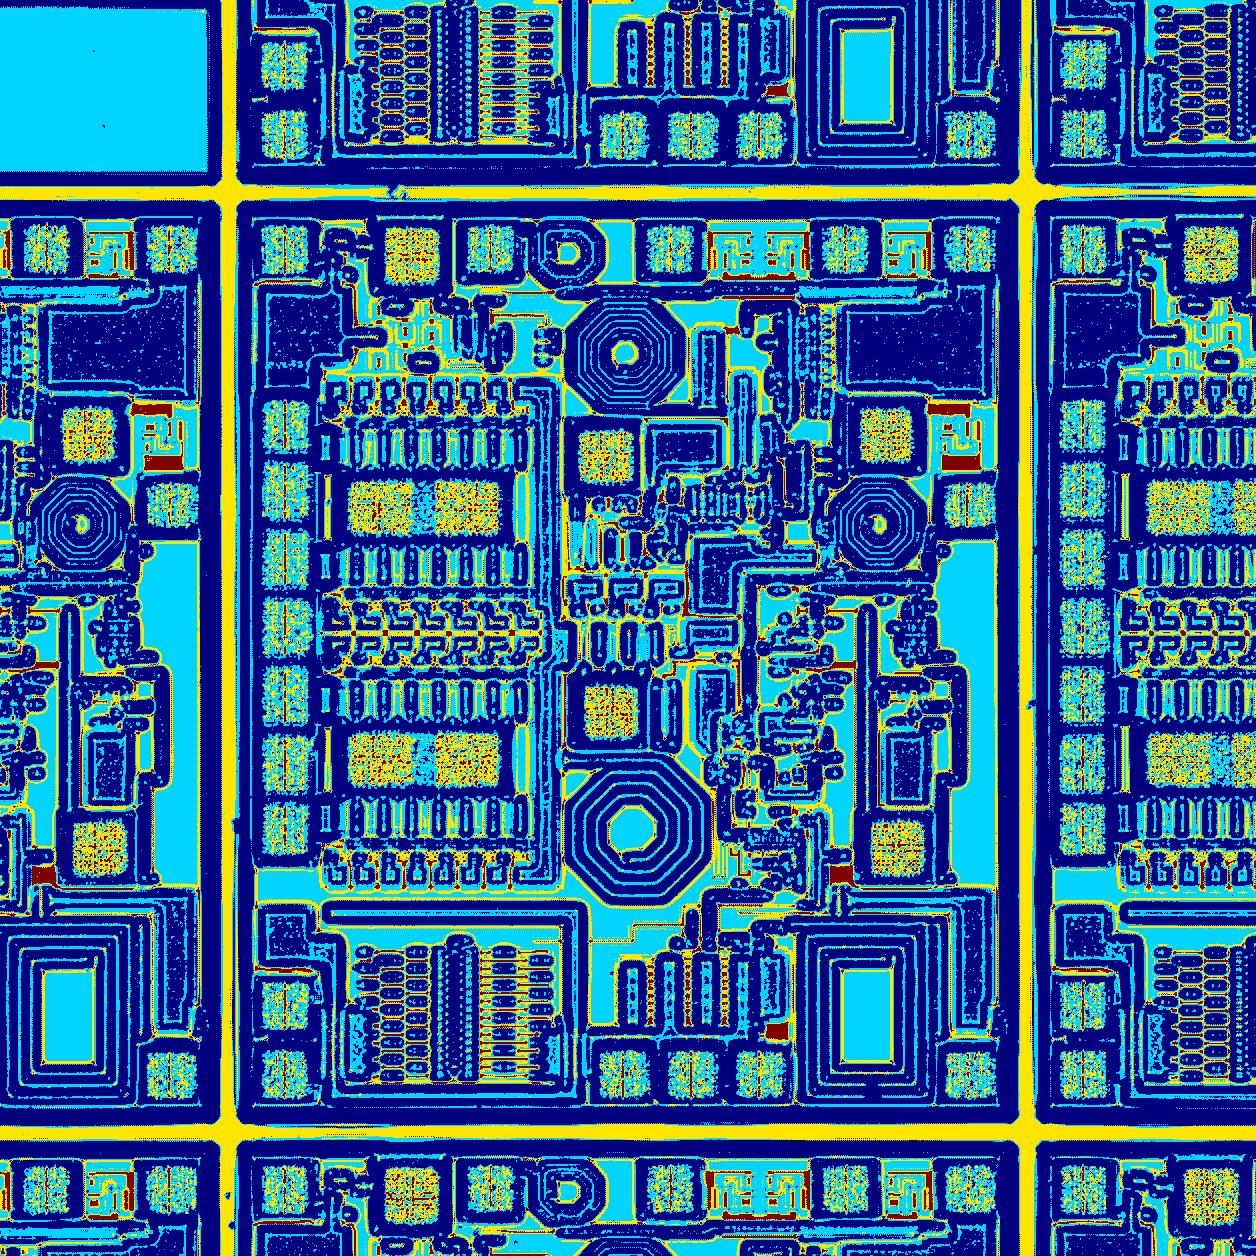Die: (236, 197, 1021, 1121)
Pad 1: (346, 478, 415, 537), (432, 478, 501, 535), (432, 730, 501, 787), (347, 732, 415, 788), (384, 228, 441, 284), (871, 820, 926, 876), (583, 683, 638, 738), (860, 407, 913, 464), (579, 429, 633, 483)
Pad 2: (262, 665, 311, 726), (262, 460, 311, 521), (262, 528, 311, 588), (263, 735, 311, 795), (263, 598, 311, 657), (263, 801, 311, 855), (263, 398, 309, 452), (598, 1050, 649, 1098), (262, 224, 311, 274), (944, 482, 995, 529), (945, 1052, 997, 1098), (263, 981, 311, 1031), (735, 1050, 784, 1097), (467, 224, 516, 271), (822, 224, 870, 273), (669, 1050, 717, 1098), (263, 1050, 309, 1100), (944, 227, 994, 273), (648, 224, 692, 273)
